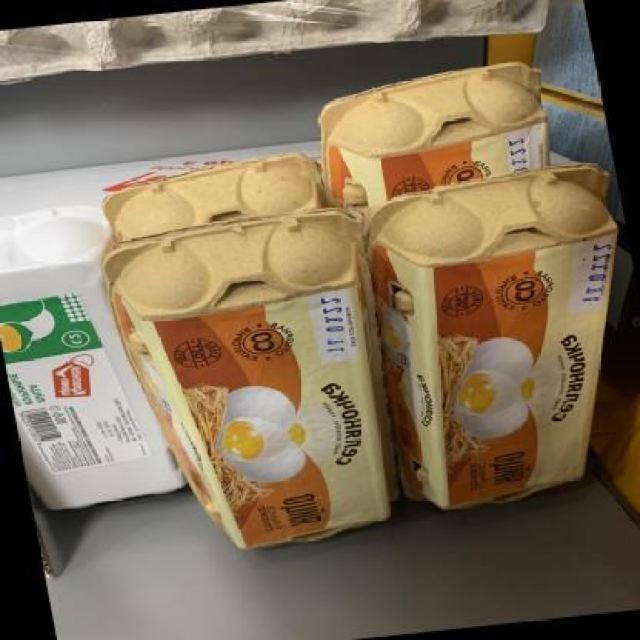egg: (107, 200, 420, 556), (340, 162, 640, 514), (0, 195, 182, 514), (319, 62, 563, 193), (100, 154, 312, 237)
